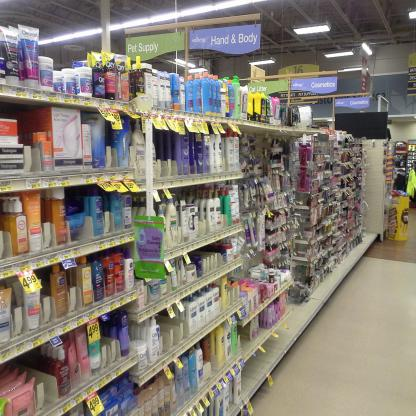Void: (29, 350, 55, 402), (17, 103, 47, 132), (161, 312, 188, 341), (40, 272, 51, 320), (13, 287, 23, 339)
